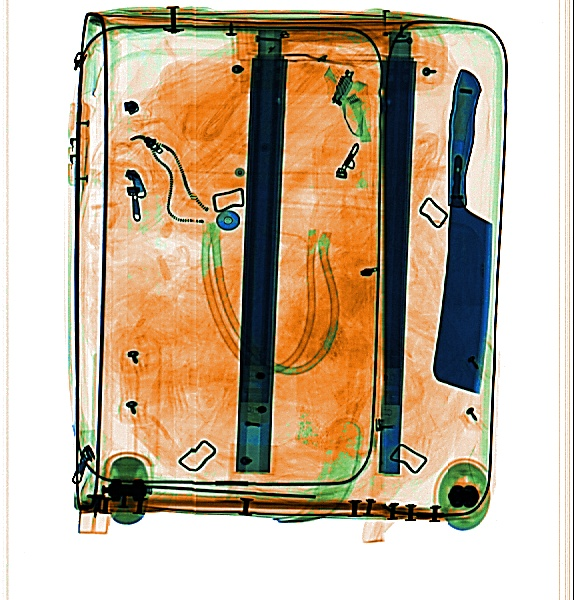knife: (430, 146, 505, 400)
